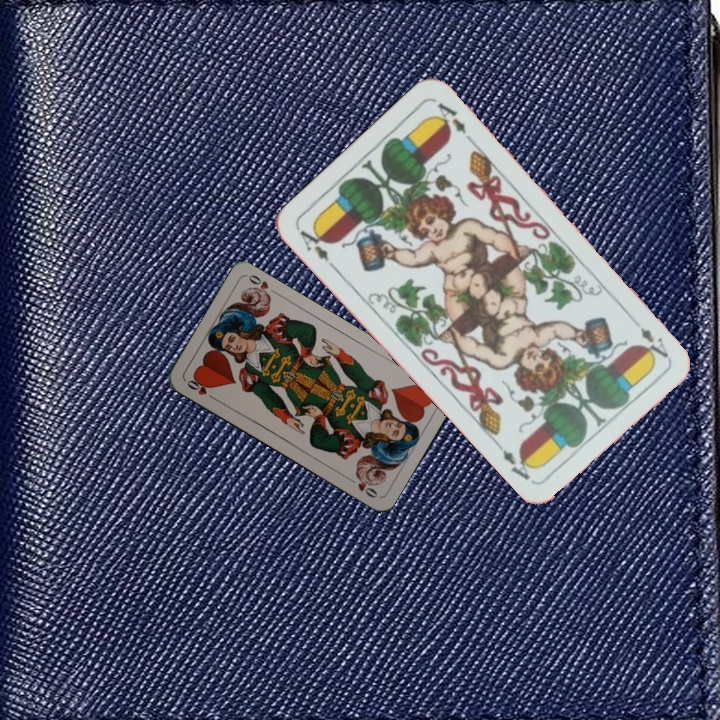EA: (295, 223, 340, 273), (626, 313, 672, 361)
HO: (183, 374, 219, 402)
